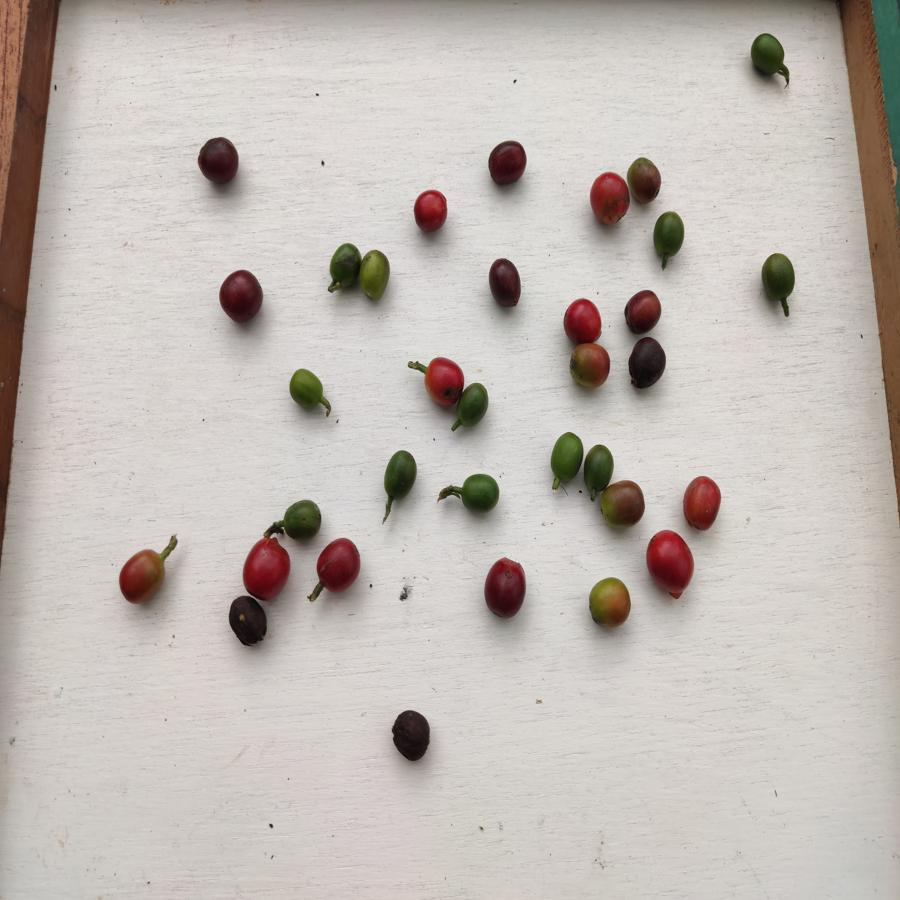Inmaduro: (756, 248, 801, 309), (376, 447, 419, 509), (747, 29, 791, 86), (288, 367, 333, 420), (450, 471, 502, 516), (354, 247, 394, 301), (279, 495, 324, 543), (547, 426, 582, 486), (650, 209, 689, 261), (458, 383, 494, 435), (582, 439, 614, 491), (329, 241, 357, 290)
Maduro: (646, 527, 696, 601), (114, 546, 170, 606), (243, 539, 291, 597), (318, 536, 363, 594), (684, 471, 724, 529), (588, 171, 629, 225), (560, 294, 605, 343), (423, 355, 463, 410), (411, 188, 451, 234)
Pinton: (583, 572, 634, 634), (569, 341, 614, 391), (602, 483, 645, 527)
Sobremaduro: (213, 267, 270, 329), (483, 552, 528, 620), (387, 705, 433, 766), (625, 336, 669, 398), (197, 136, 241, 190), (228, 595, 269, 652), (484, 139, 529, 190), (624, 151, 668, 203), (618, 287, 665, 335), (489, 255, 523, 314)
